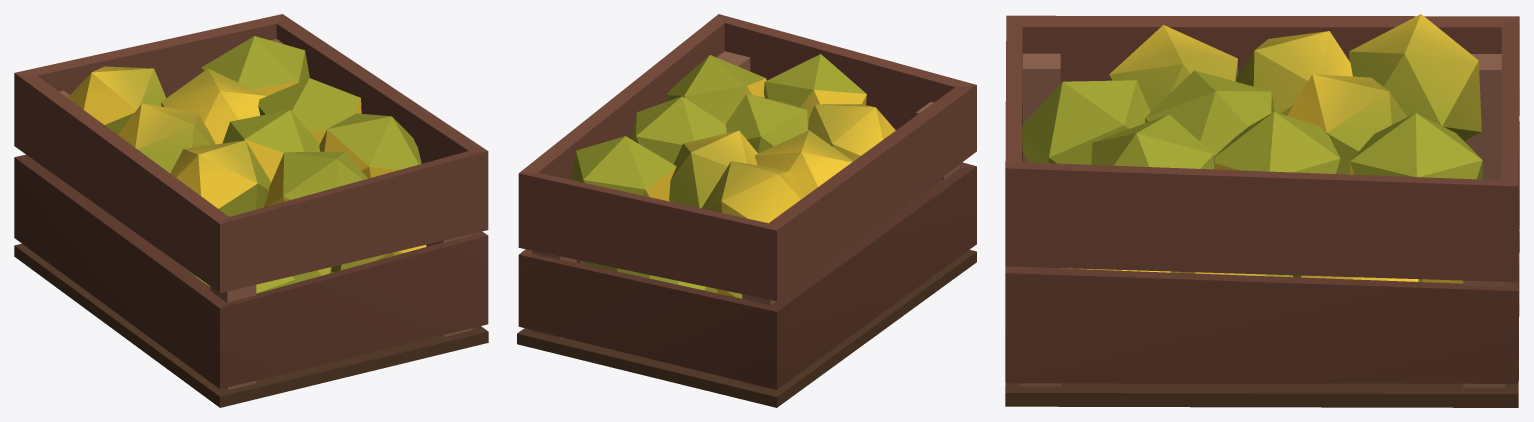
The model's file is Fruit 2.glb.
The picture shows the model from 3 angles, left to right: view 1: azimuth 30°, elevation 25°; view 2: azimuth 150°, elevation 25°; view 3: azimuth 270°, elevation 25°; orthographic projection. The views are drawn at different scales.
Parts seen in each view (by area): view 1: Fruit 2; view 2: Fruit 2; view 3: Fruit 2.
Boxes of the visible parts, box(x1,y1,x2,y2) form: Fruit 2: box(14, 14, 488, 407); Fruit 2: box(517, 14, 976, 407); Fruit 2: box(1005, 14, 1519, 407).
Size of what is drawn, in the model's own units: 0.4655 by 0.3357 by 0.6171.
Materials: 1 (1 with a texture image).
